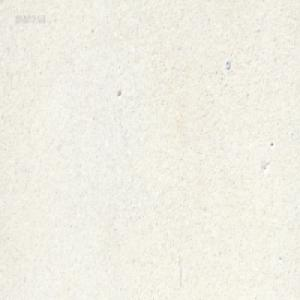Washer: (225, 60, 231, 71)
